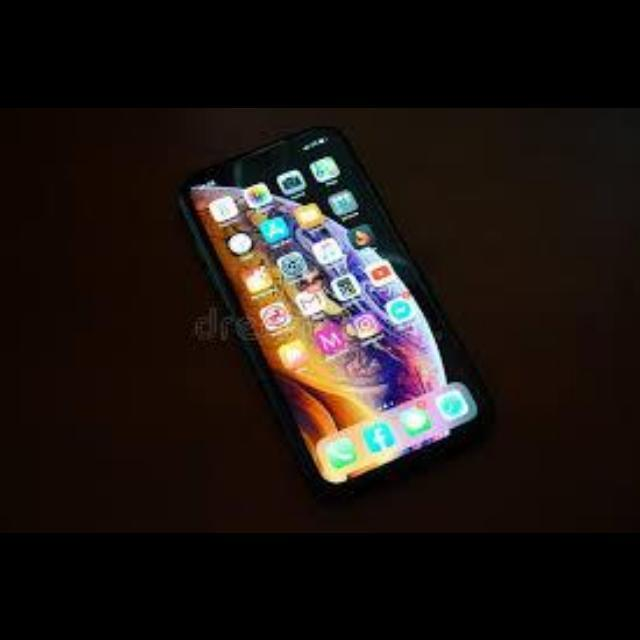PhoneUse: (177, 123, 498, 490)
